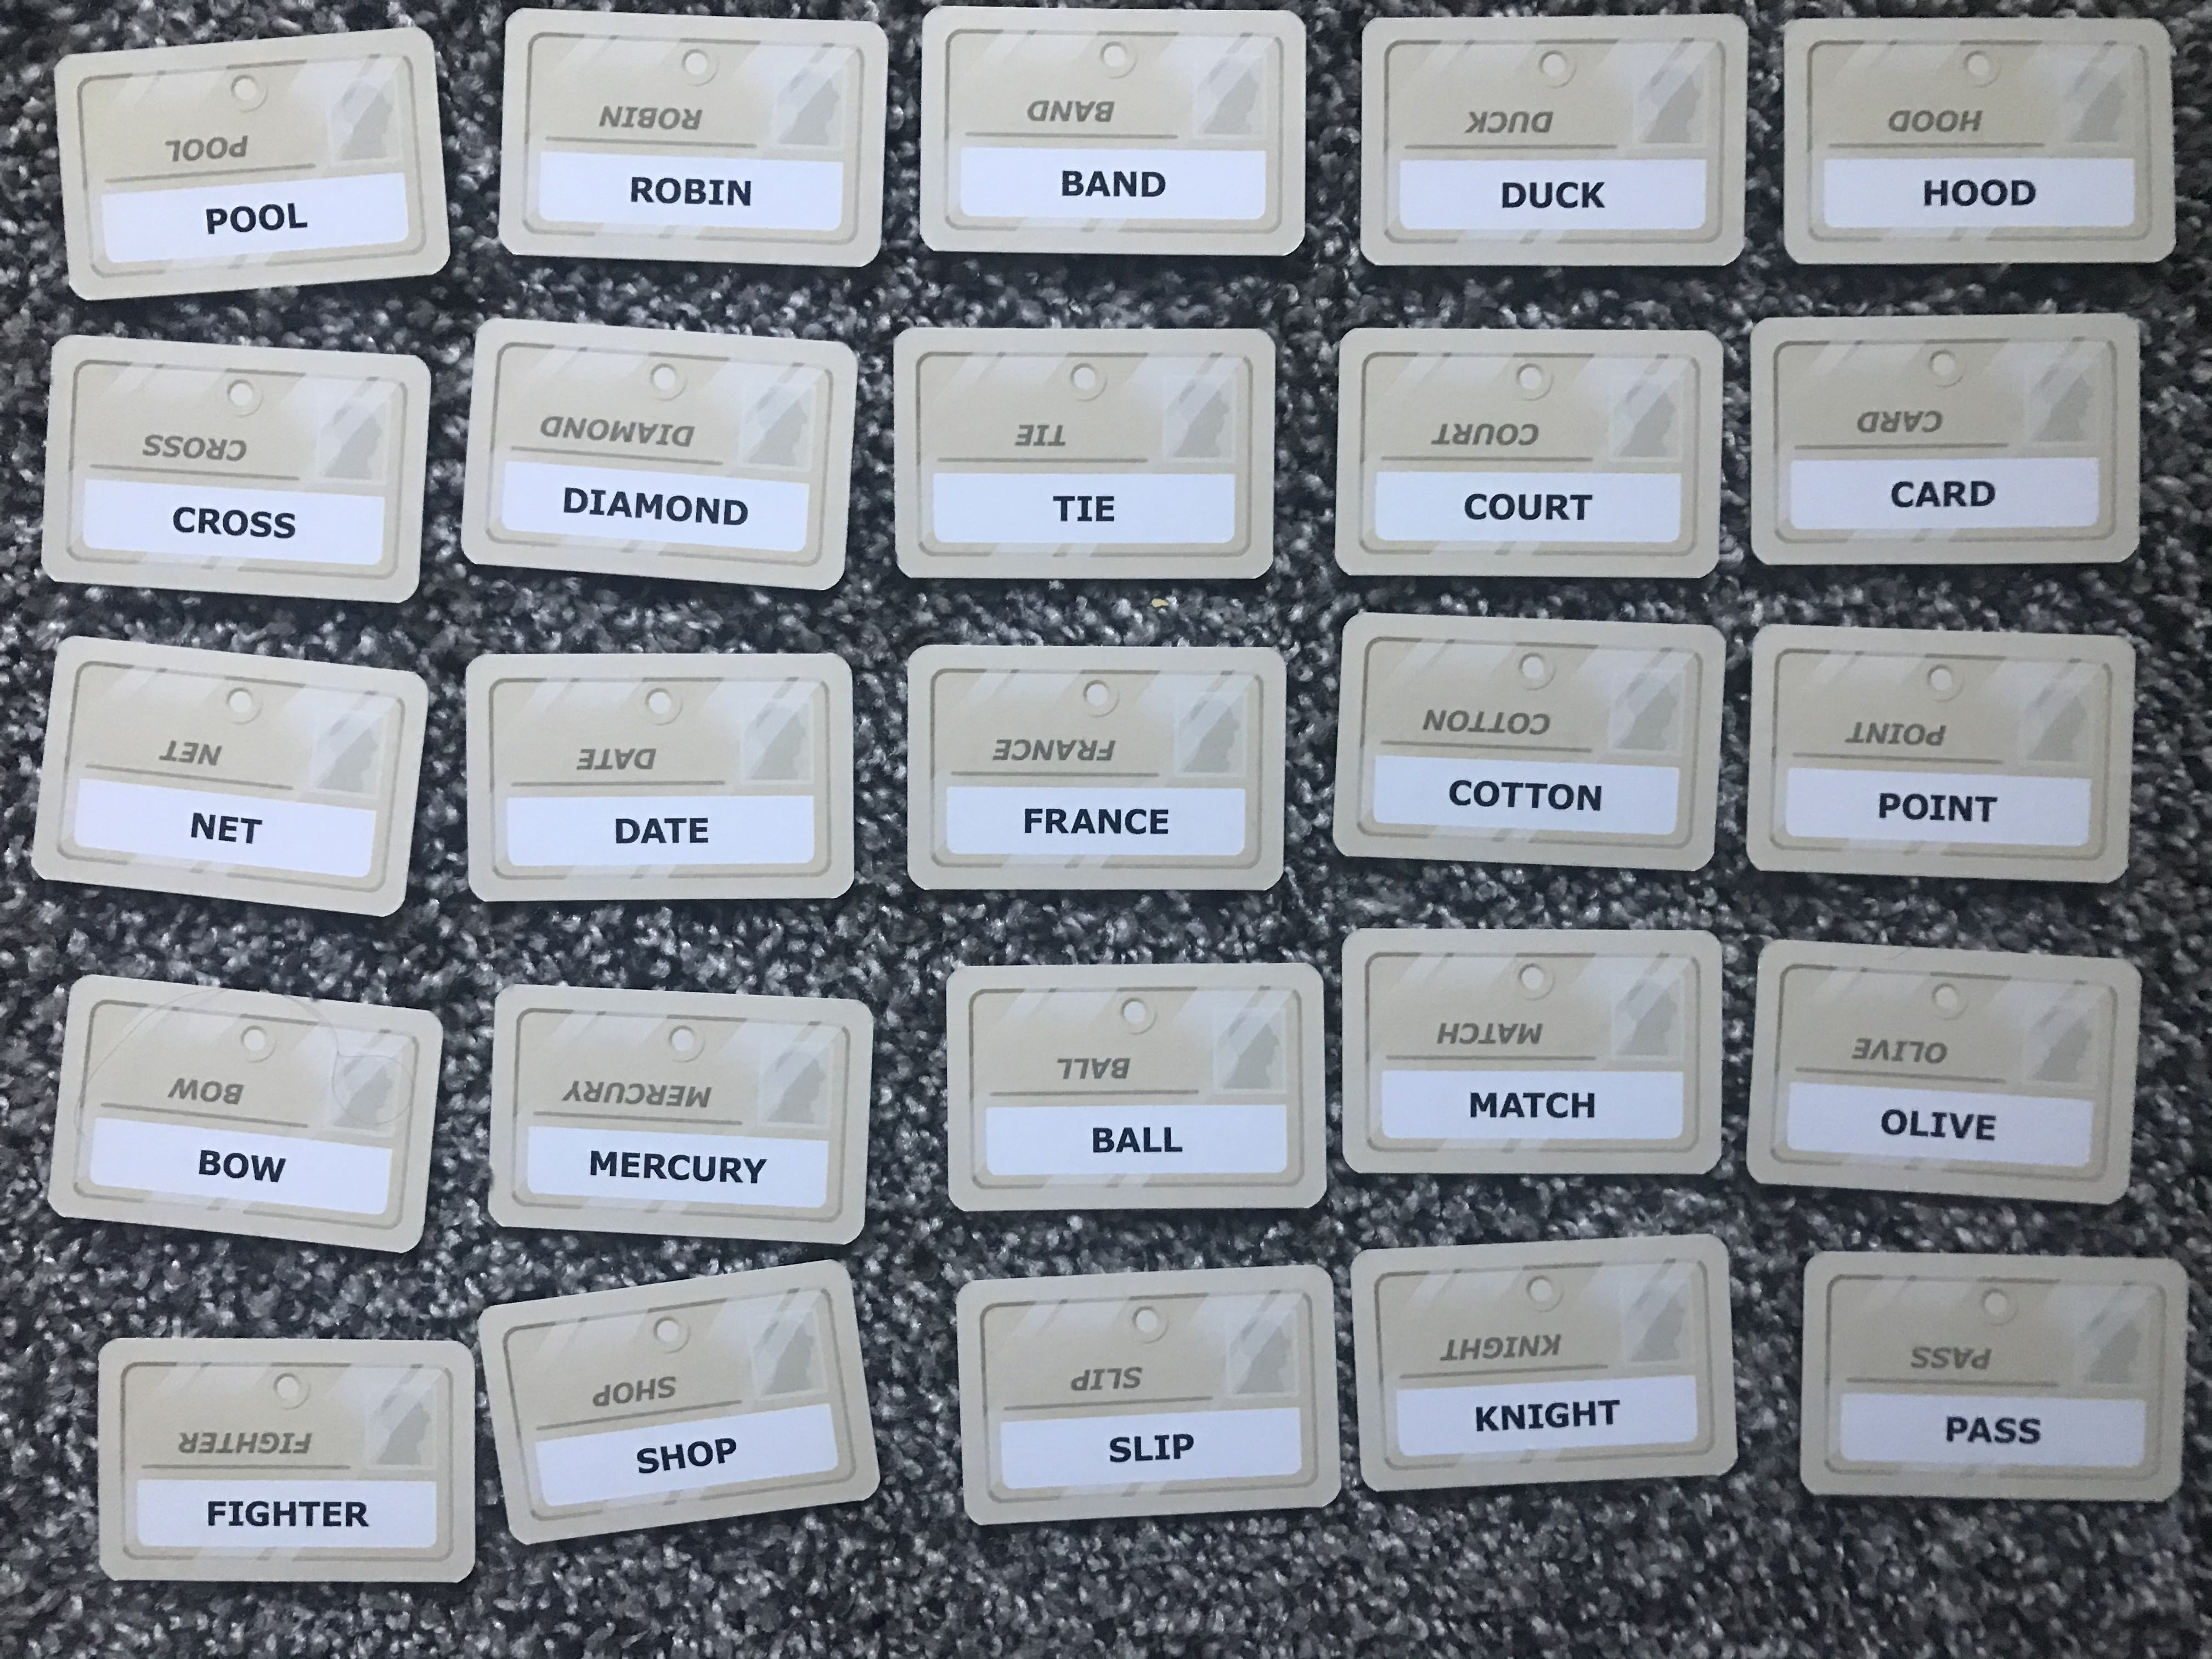A: (604, 481, 632, 532), (1914, 476, 1944, 516), (1963, 1408, 1991, 1450), (1500, 1084, 1526, 1127), (1069, 803, 1096, 845), (639, 812, 664, 856), (1087, 162, 1109, 204), (1116, 1121, 1137, 1161)
